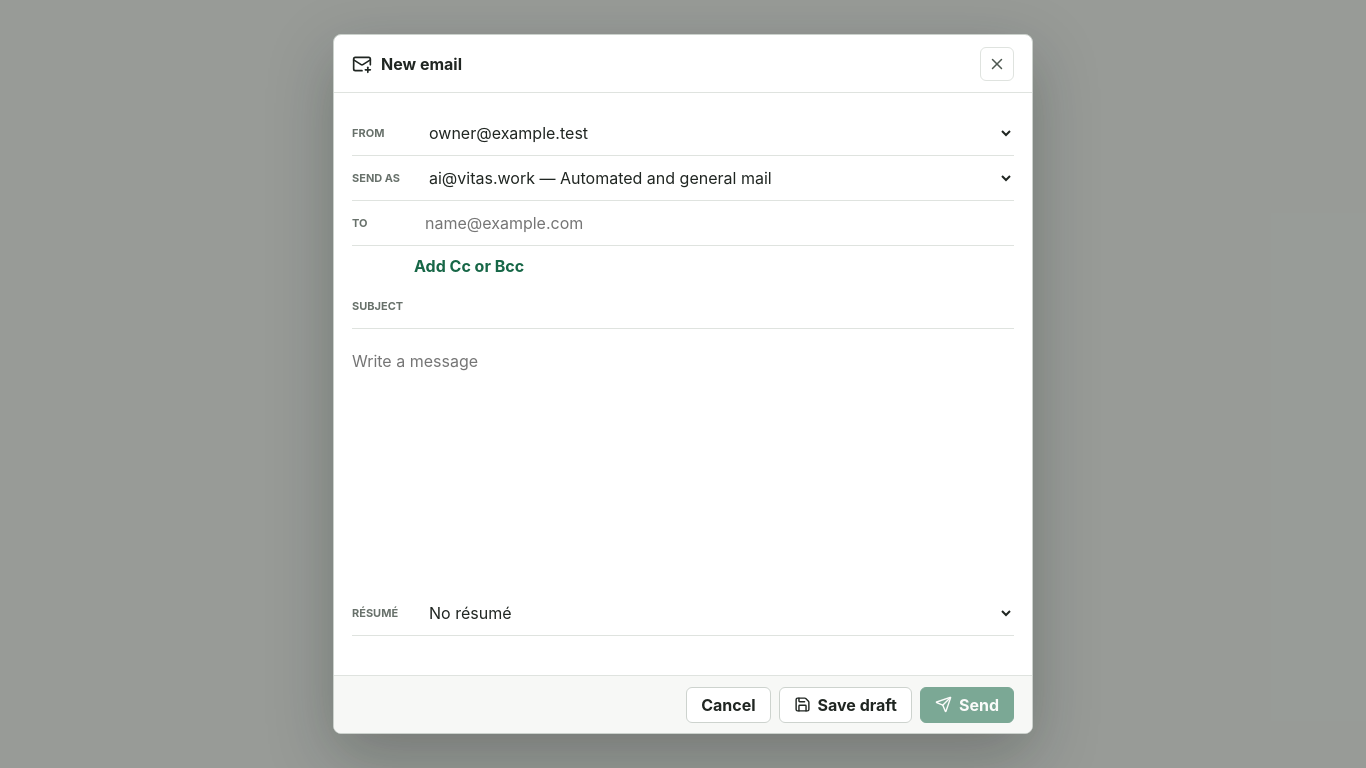
Scenario: ComposeDialog › switches the sender to the development address when a resume is attached
The image size is (1366, 768).
Expected: the dropdown labelled "Send as" shows "ai@vitas.work — Automated and general mail", [416, 159, 1014, 197]
Select "Engineering · engineering-resume.pdf" in the dropdown labelled "Résumé". click: (715, 613)
box: [416, 594, 1014, 632]
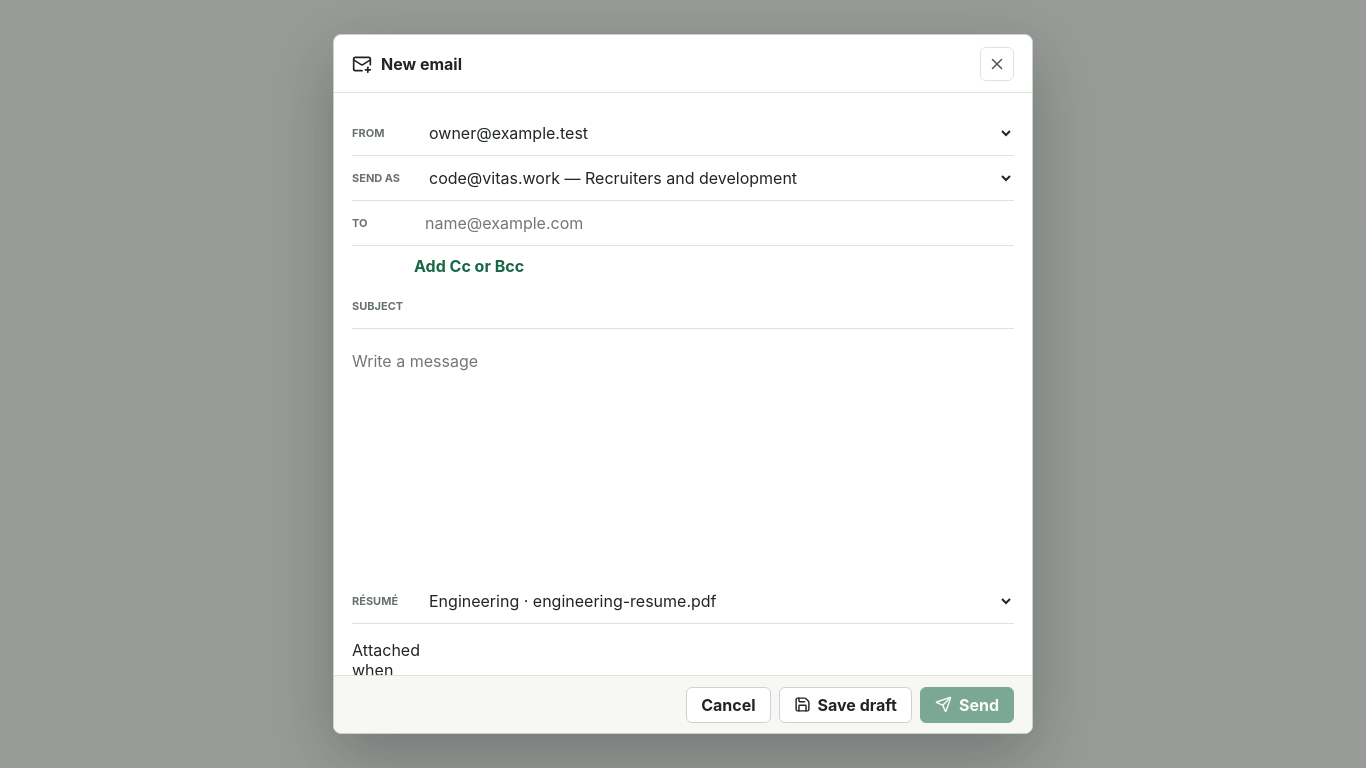
Expected: the dropdown labelled "Send as" shows "code@vitas.work — Recruiters and development", [416, 159, 1014, 197]
# Detaching goes back.
Select "No résumé" in the dropdown labelled "Résumé". click: (715, 601)
box: [416, 582, 1014, 620]
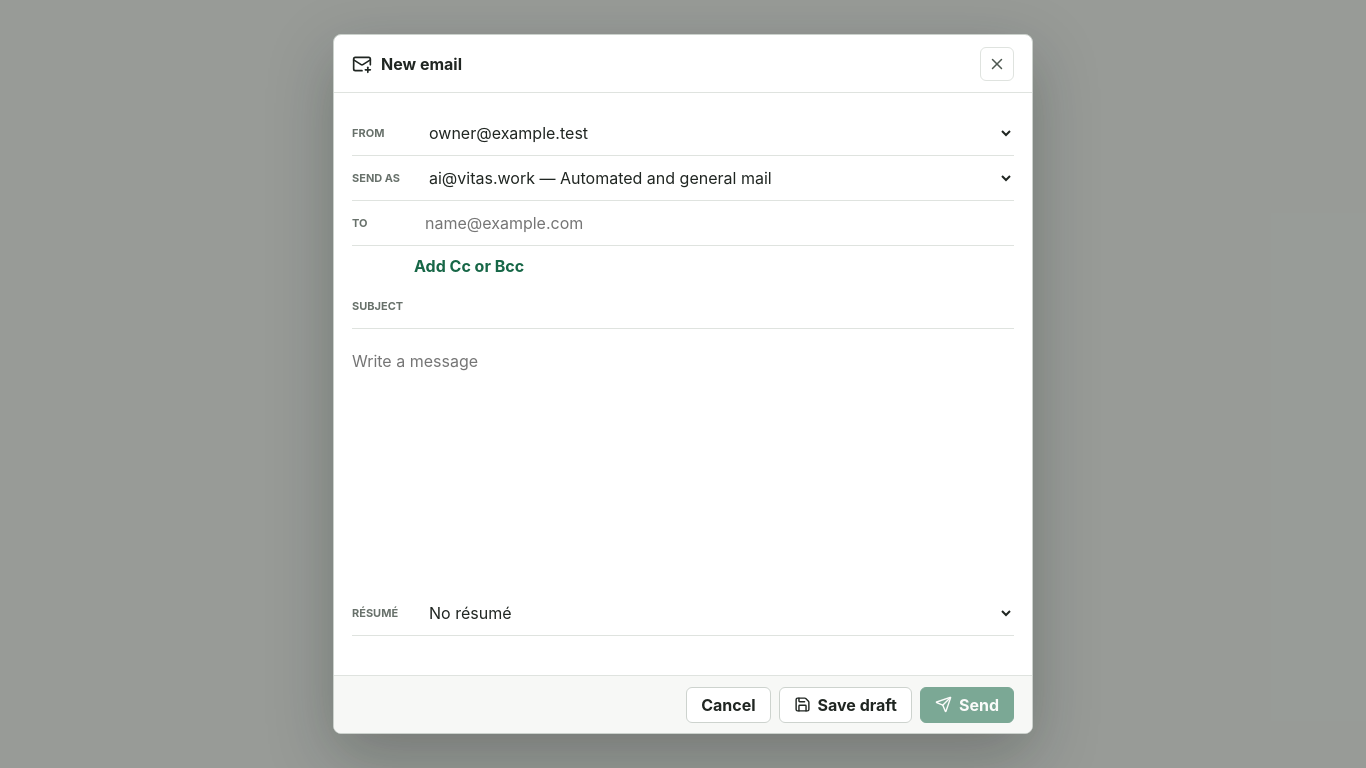
Expected: the dropdown labelled "Send as" shows "ai@vitas.work — Automated and general mail", [416, 159, 1014, 197]
